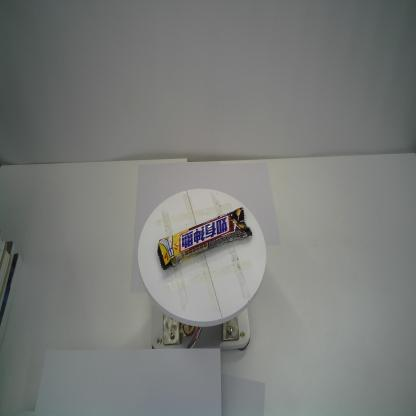Chocolate: (156, 206, 252, 270)
